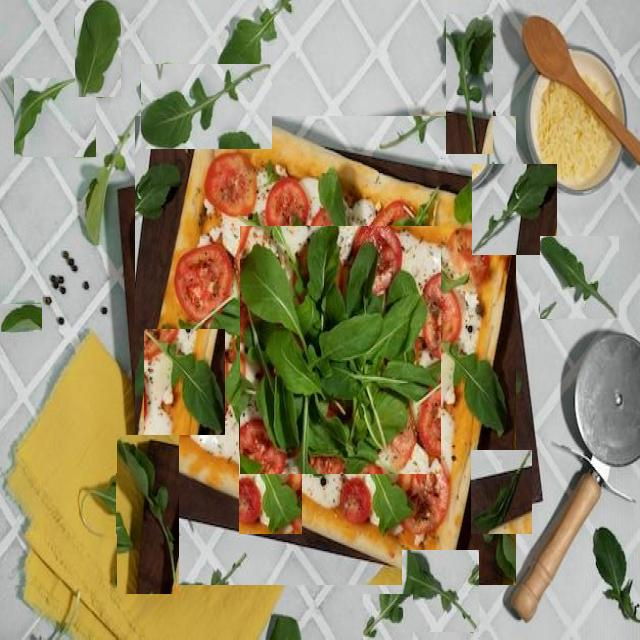basil: (240, 226, 441, 474), (141, 64, 272, 149), (117, 435, 179, 594), (144, 329, 225, 435), (84, 107, 144, 246), (472, 164, 557, 255), (239, 416, 302, 534), (446, 14, 493, 154), (540, 236, 619, 319), (14, 78, 96, 157), (402, 550, 479, 632), (218, 1, 294, 82), (471, 450, 532, 534), (75, 0, 121, 97), (154, 129, 198, 223), (80, 473, 132, 534), (363, 594, 413, 640), (0, 304, 42, 332), (267, 612, 302, 640)
pizza: (135, 116, 516, 585)
